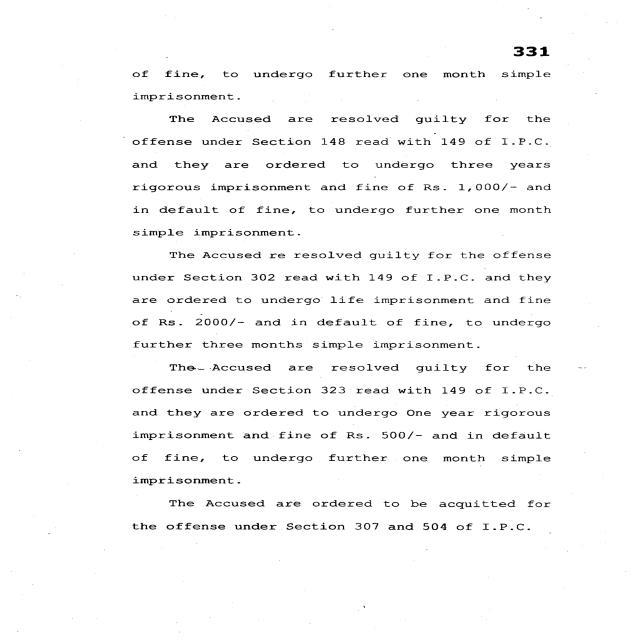page-number: (444, 2, 640, 67)
